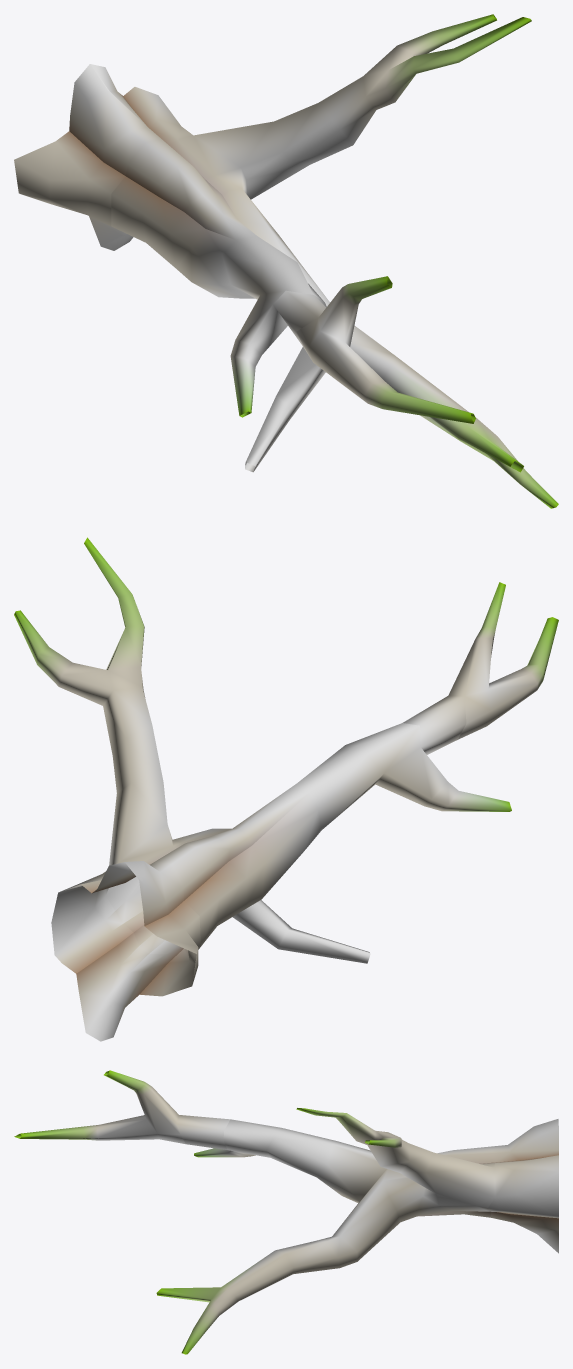
Rendered from Tropical_B.glb.
3 views of the same model, one above another, from view 1: azimuth 30°, elevation 25°; view 2: azimuth 150°, elevation 25°; view 3: azimuth 270°, elevation 25° (orthographic). The views are drawn at different scales.
Visible parts, largest first — view 1: MeshNode_0; view 2: MeshNode_0; view 3: MeshNode_0.
Boxes of the visible parts, x1,y1,x2,y2 form: MeshNode_0: (14,14,558,508); MeshNode_0: (14,537,558,1041); MeshNode_0: (14,1070,558,1354).
Size of the model in its own units: 42.57 by 43.02 by 79.44.
